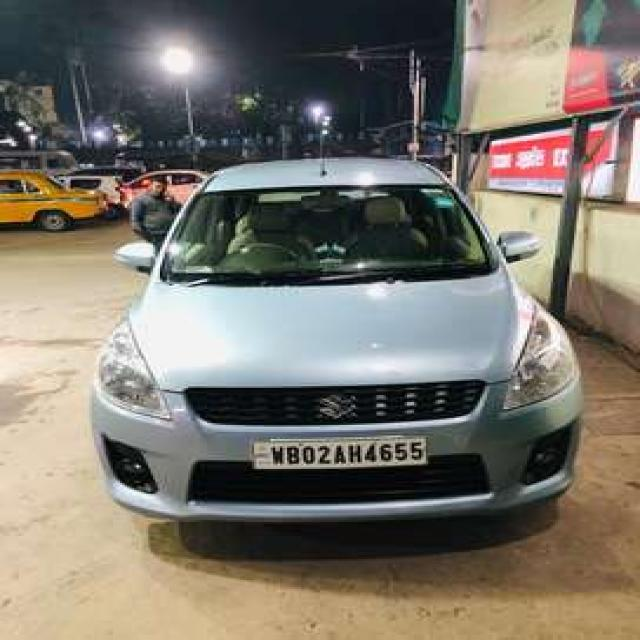Plate: (253, 435, 425, 468)
